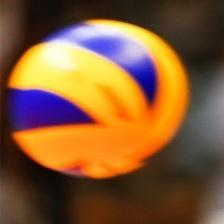Sports-Ball: (12, 28, 188, 183)
